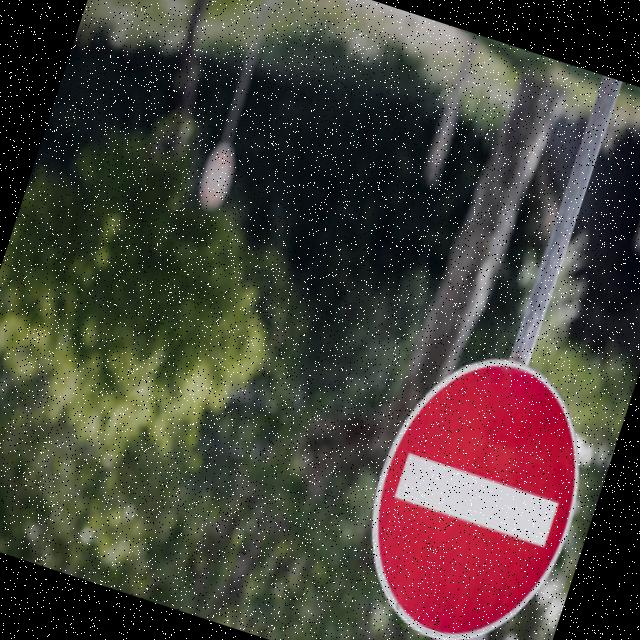do_not_enter: (316, 313, 621, 640)
